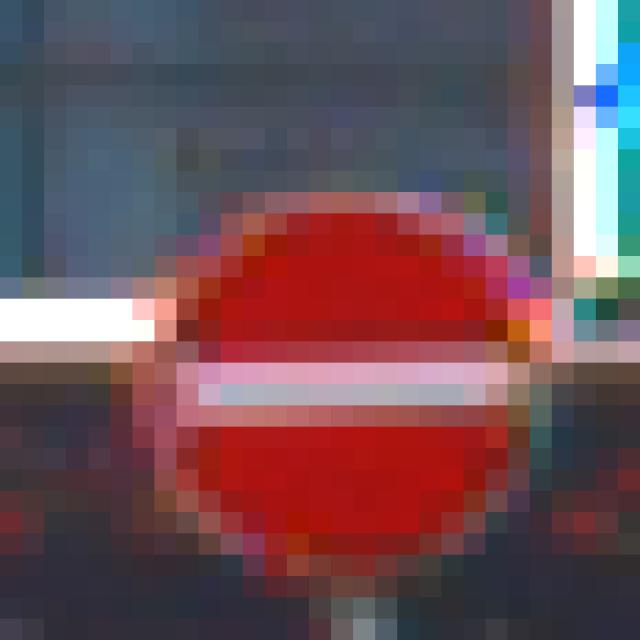No Entry: (134, 129, 509, 534)
